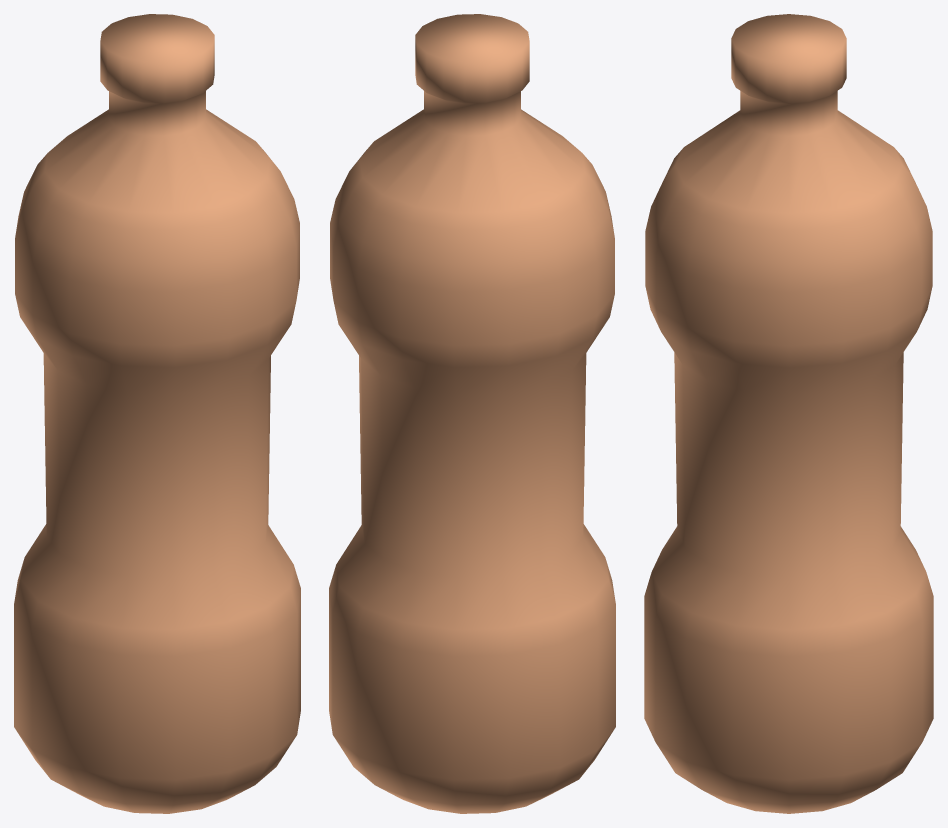
The model's file is aranciata.fbx.
3 views of the same model, side by side, from view 1: azimuth 30°, elevation 25°; view 2: azimuth 150°, elevation 25°; view 3: azimuth 270°, elevation 25° (orthographic).
Parts seen in each view (by area): view 1: Aranciata_max; view 2: Aranciata_max; view 3: Aranciata_max.
Boxes of the visible parts, left/top/right/bottom form: Aranciata_max: left=14, top=14, right=300, bottom=813; Aranciata_max: left=329, top=14, right=615, bottom=813; Aranciata_max: left=644, top=14, right=933, bottom=813.
Size of the model in its own units: 69.95 by 197 by 69.95.
